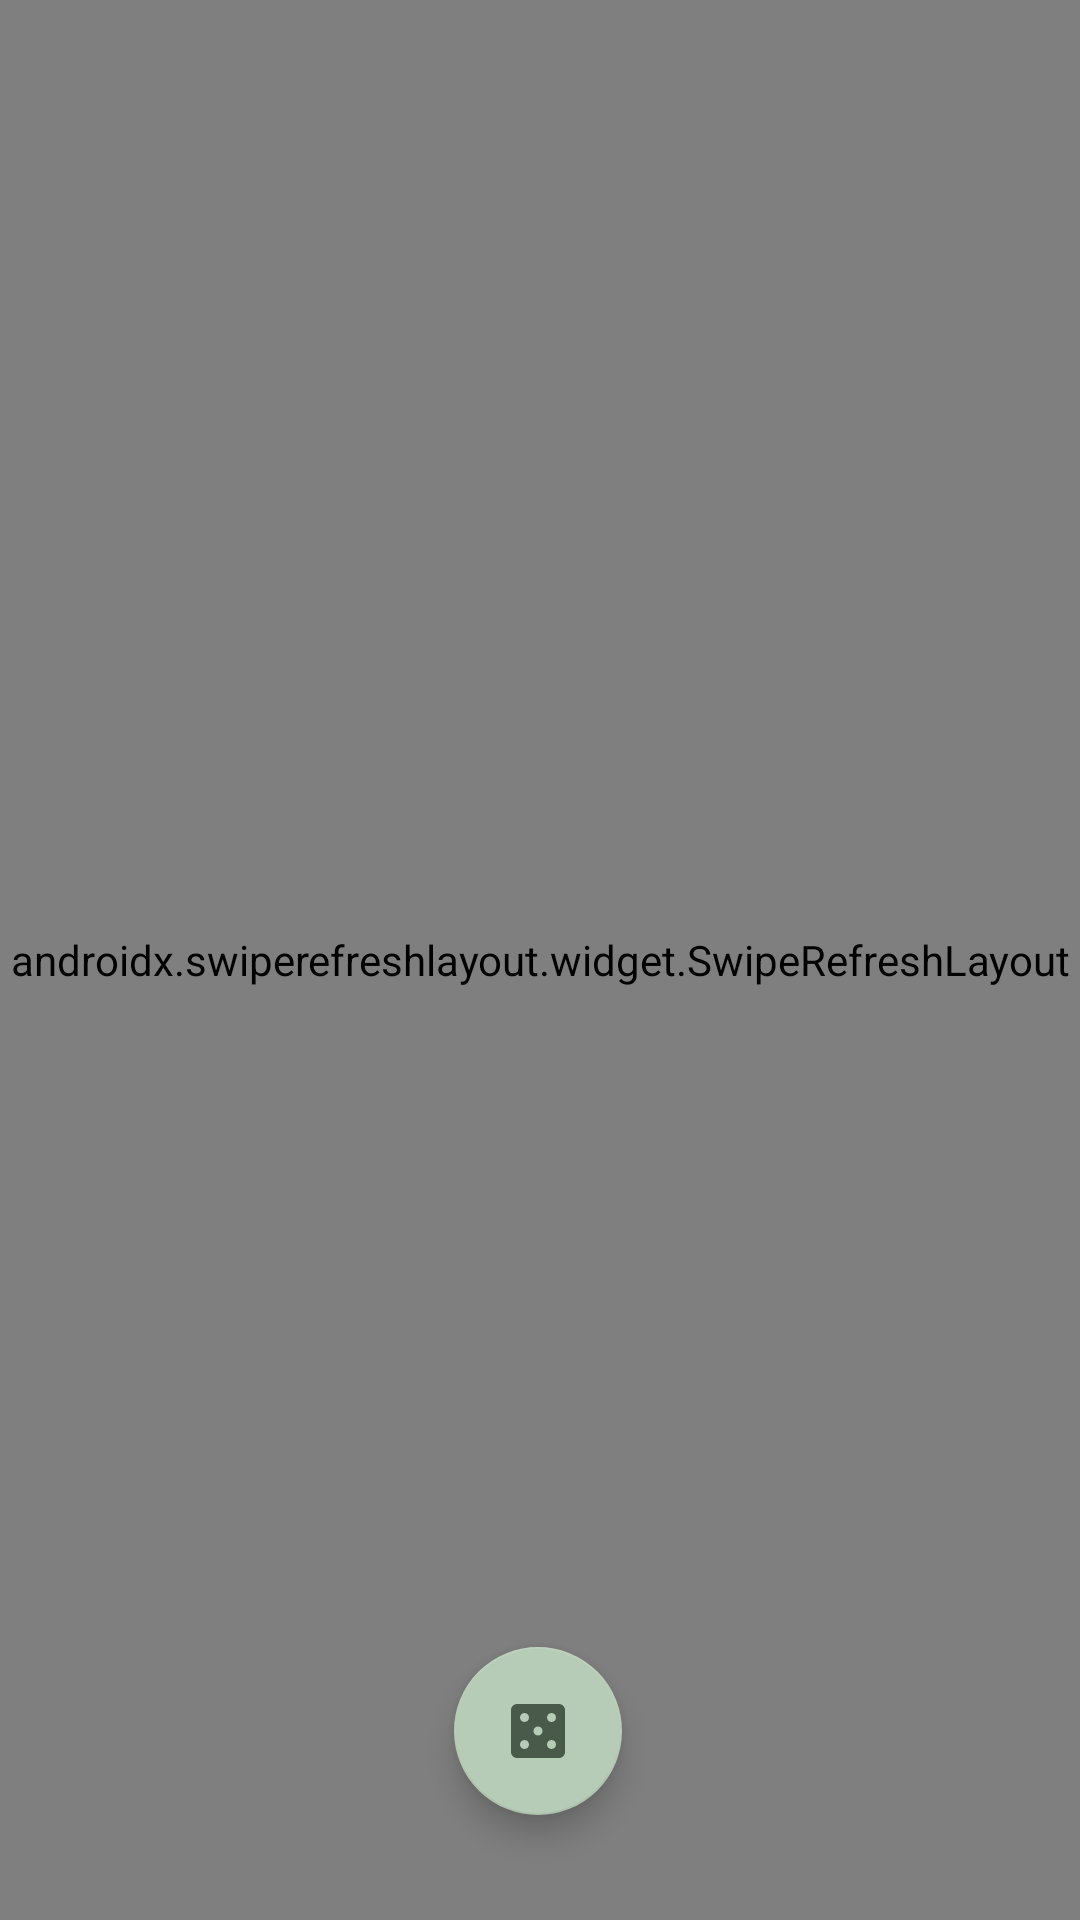

Icon click points for this 1080w x 1920h phone screenshot, format [x,y]:
Randonmize matches: [538,1731]
